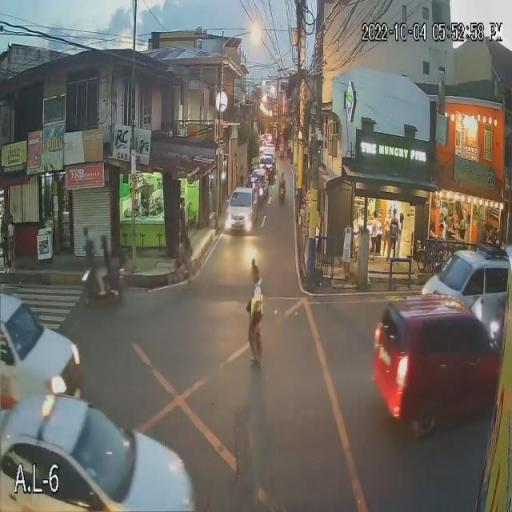helmet: (98, 233, 109, 251)
motorcycle: (76, 254, 131, 308)
rider: (95, 232, 110, 296)
